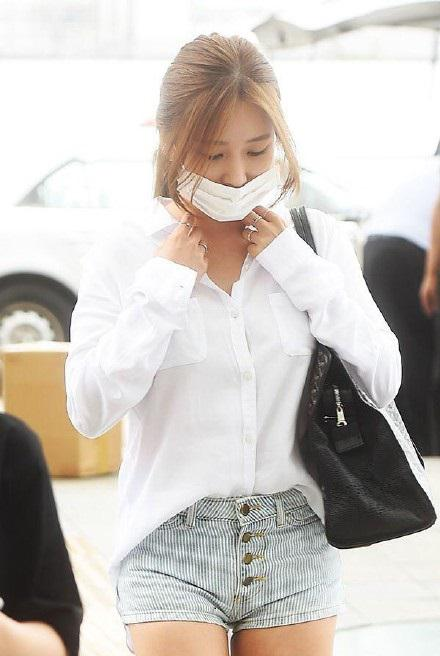WRONG: (175, 128, 271, 224)
